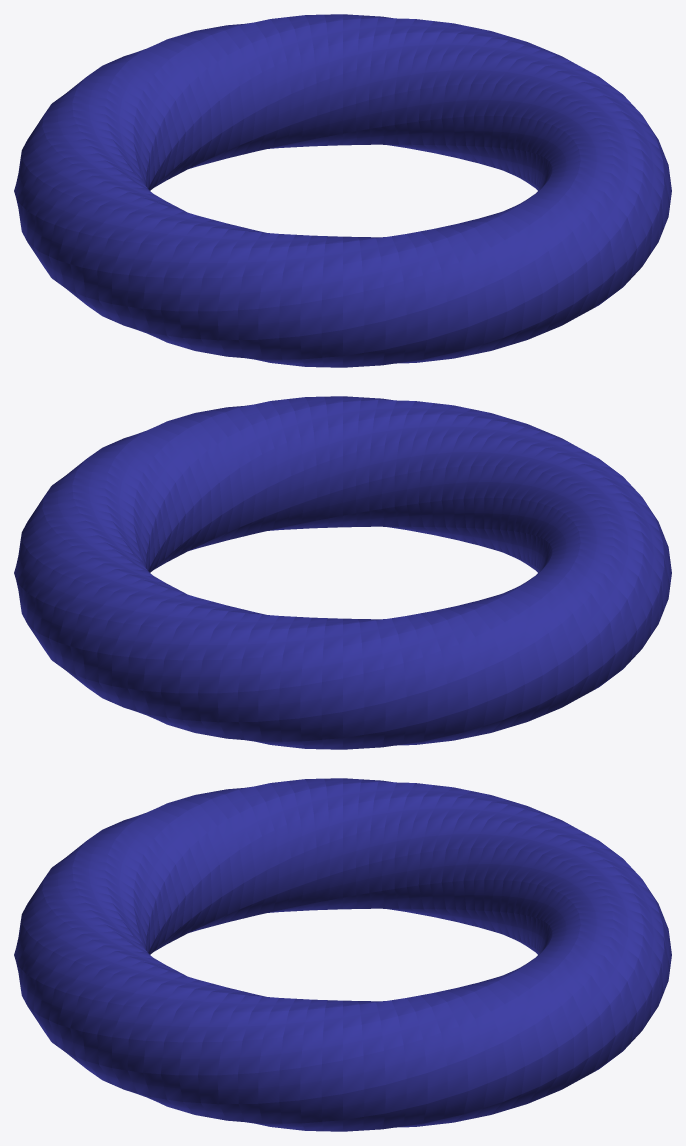
The model's file is TwistedTorus.gltf.
3 renders of one model, top to bottom at view 1: azimuth 30°, elevation 25°; view 2: azimuth 150°, elevation 25°; view 3: azimuth 270°, elevation 25°, orthographic.
Visible parts, largest first — view 1: TwistedTorus; view 2: TwistedTorus; view 3: TwistedTorus.
Boxes of the visible parts, bbox=[...] form: TwistedTorus: bbox=[14, 14, 671, 367]; TwistedTorus: bbox=[14, 396, 671, 749]; TwistedTorus: bbox=[14, 778, 671, 1131].
Size of the model in its own units: 2.5 by 0.5 by 2.5.
